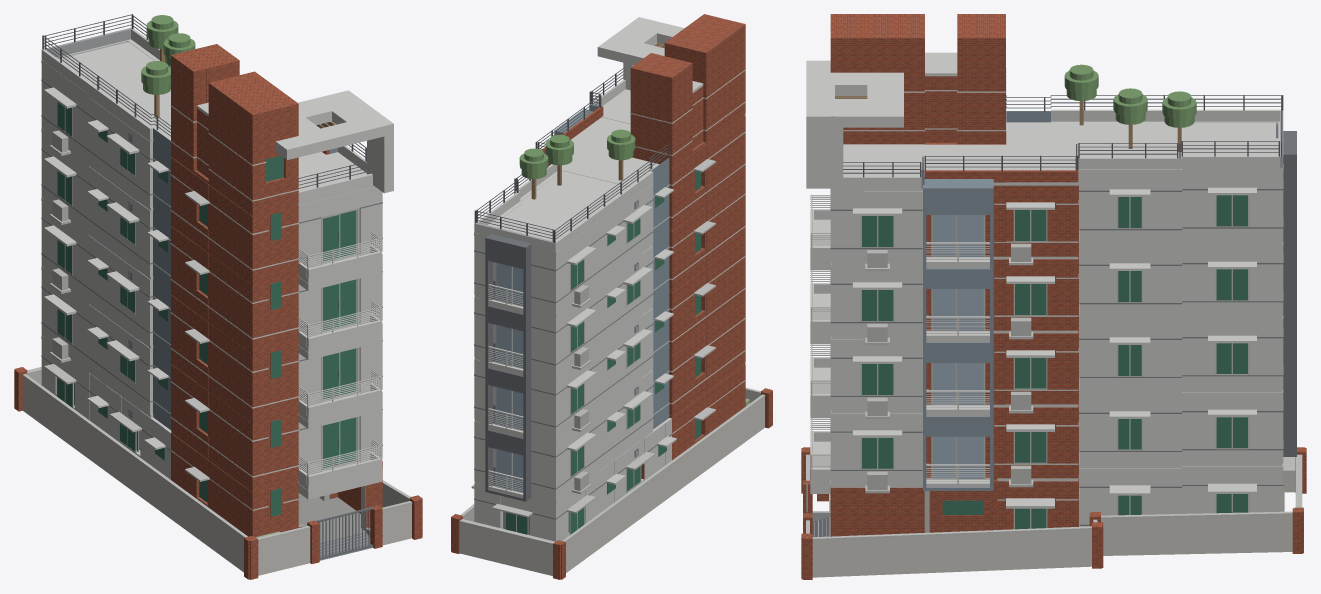
The picture shows the model from 3 angles, left to right: view 1: azimuth 30°, elevation 25°; view 2: azimuth 150°, elevation 25°; view 3: azimuth 270°, elevation 25°; orthographic projection. The views are drawn at different scales.
Parts seen in each view (by area): view 1: BOUNDARY#638, pylon_head#226, zone#185, zone#59, zone#143, zone#101, skin/east#803, skin/east#801, skin/east#798, skin/east#795, toilet_bay#694, pylon_head#227 (+61 smaller); view 2: BOUNDARY#638, pylon_head#226, skin/east#803, skin/east#798, skin/east#795, skin/east#801, toilet_bay#694, pylon_head#227, BOUNDARY#634, slab#221, zone#185, zone#59 (+54 smaller); view 3: BOUNDARY#622, BOUNDARY#630, pylon_head#229, zone#73, zone#115, zone#157, zone#199, zone#75, zone#117, zone#159, zone#201, pylon_head#230 (+78 smaller).
Part boxes in pixels (<box>): BOUNDARY#638: <box>22,377,243,572</box>; pylon_head#226: <box>208,79,265,214</box>; zone#185: <box>208,185,298,282</box>; zone#59: <box>208,392,298,489</box>; zone#143: <box>208,254,298,351</box>; zone#101: <box>208,323,298,420</box>; skin/east#803: <box>41,63,136,198</box>; skin/east#801: <box>41,132,136,267</box>; skin/east#798: <box>41,201,136,336</box>; skin/east#795: <box>41,270,136,405</box>; toilet_bay#694: <box>153,128,171,429</box>; pylon_head#227: <box>171,52,206,170</box>; BOUNDARY#638: <box>566,397,764,572</box>; pylon_head#226: <box>694,21,745,142</box>; skin/east#803: <box>555,192,641,314</box>; skin/east#798: <box>555,316,641,438</box>; skin/east#795: <box>555,378,641,500</box>; skin/east#801: <box>555,254,641,376</box>; toilet_bay#694: <box>650,157,669,428</box>; pylon_head#227: <box>660,60,692,167</box>; BOUNDARY#634: <box>459,522,552,575</box>; slab#221: <box>521,171,628,218</box>; zone#185: <box>706,116,745,204</box>; zone#59: <box>706,302,745,390</box>; BOUNDARY#622: <box>812,530,1091,577</box>; BOUNDARY#630: <box>1101,515,1292,555</box>; pylon_head#229: <box>830,31,924,144</box>; zone#73: <box>1079,394,1181,465</box>; zone#115: <box>1079,320,1181,391</box>; zone#157: <box>1079,246,1181,317</box>; zone#199: <box>1079,173,1181,243</box>; zone#75: <box>1182,390,1283,463</box>; zone#117: <box>1182,316,1283,389</box>; zone#159: <box>1182,242,1283,315</box>; zone#201: <box>1182,171,1283,241</box>; pylon_head#230: <box>957,31,1005,144</box>.
Bounding box in the file's own units: 8.06 × 19.94 × 18.89.
1 material, 1 textured.
